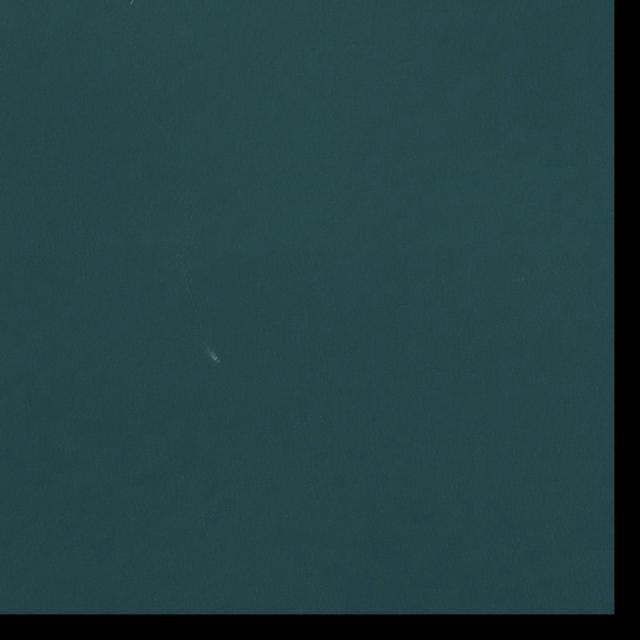ship: (214, 356, 221, 364)
